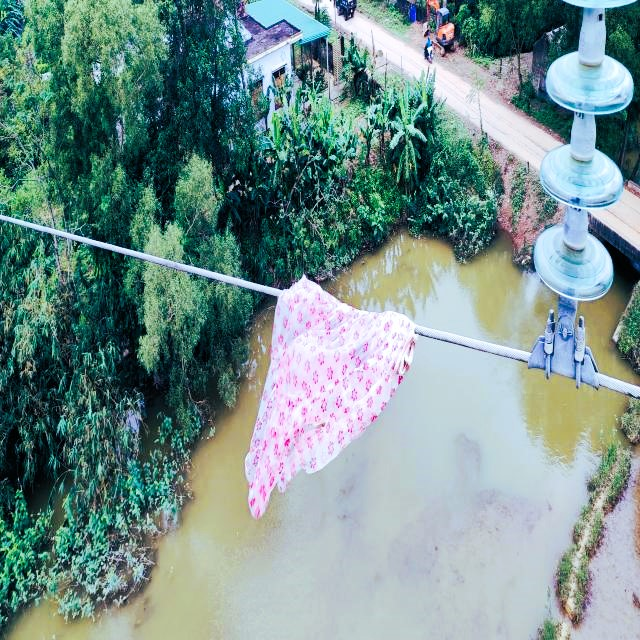wire foreign body: (232, 274, 425, 513)
